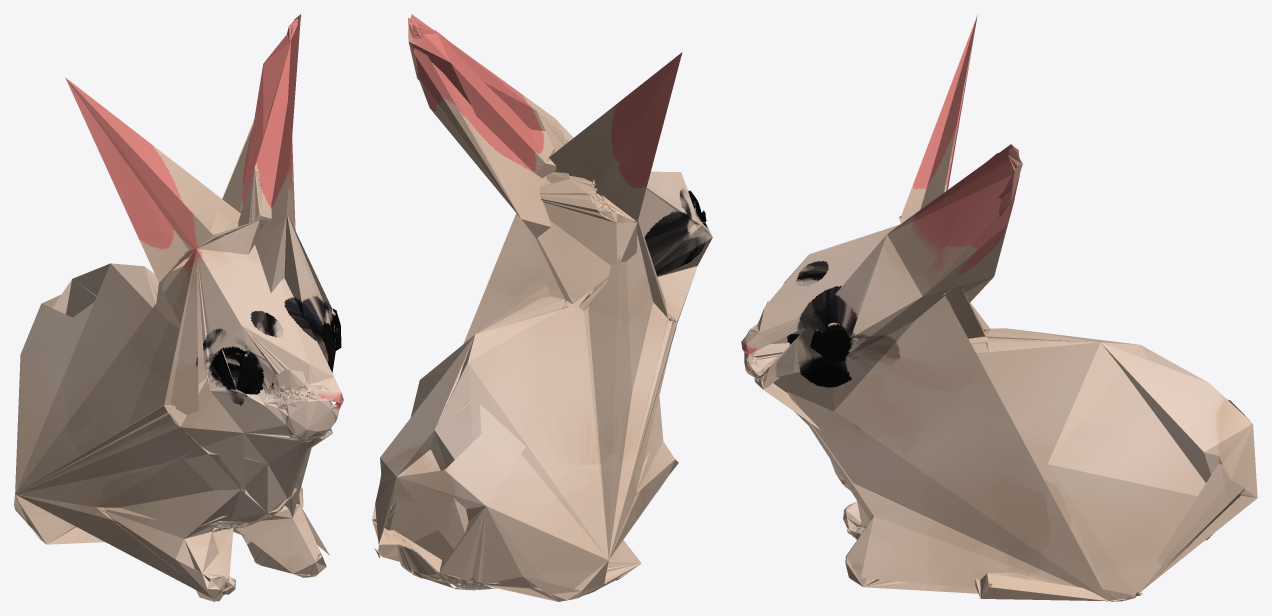
The picture shows the model from 3 angles, left to right: view 1: azimuth 30°, elevation 25°; view 2: azimuth 150°, elevation 25°; view 3: azimuth 270°, elevation 25°; orthographic projection. The views are drawn at different scales.
Bounding box in the file's own units: 0.4923 × 0.9213 × 0.8934.
Materials: 1 (1 with a texture image).
